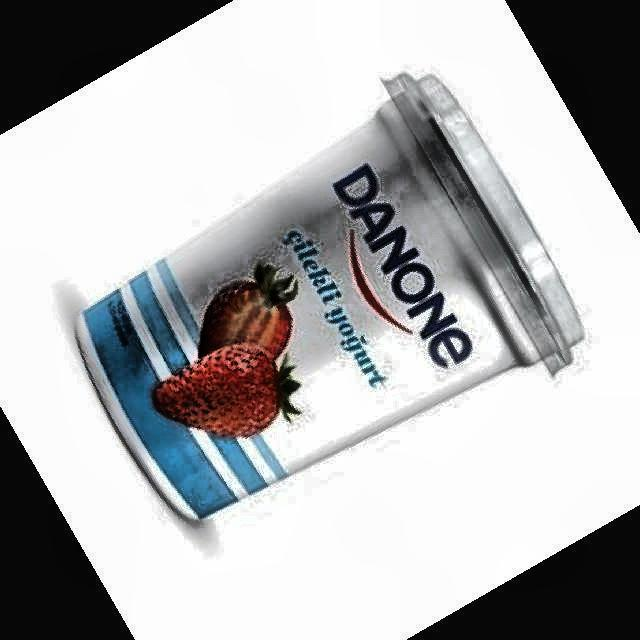plastic: (79, 75, 584, 519)
